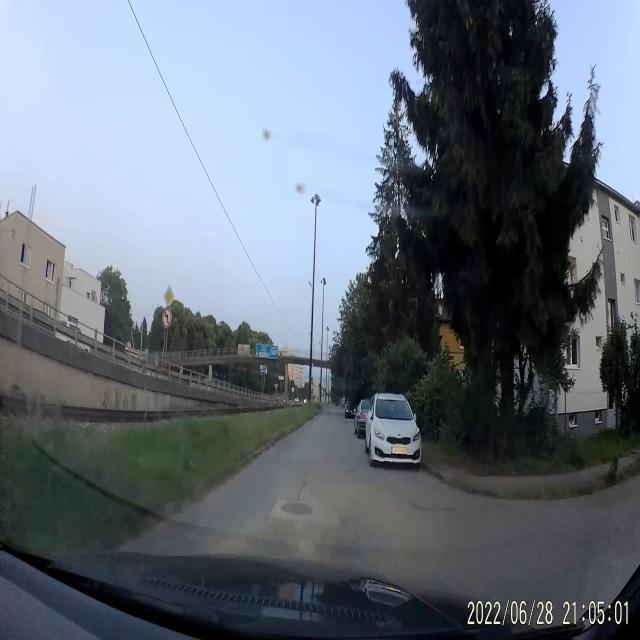Manhole: (280, 500, 314, 518)
